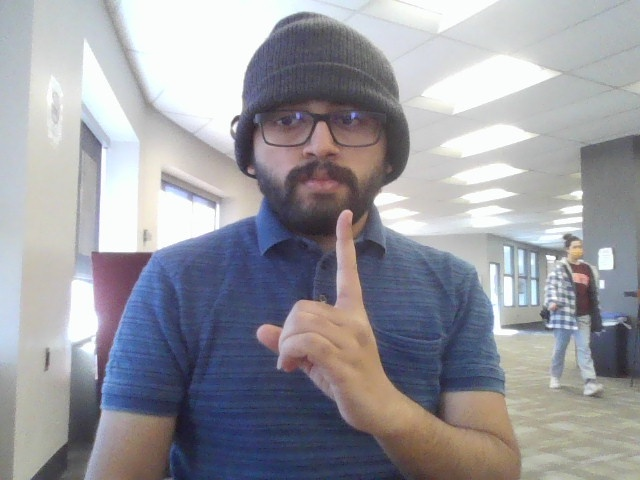one: (248, 205, 423, 435)
